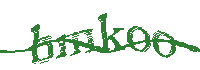b: (29, 23, 54, 64)
k: (98, 12, 125, 53)
m: (56, 27, 96, 58)
o: (126, 22, 152, 54), (152, 30, 177, 59)
